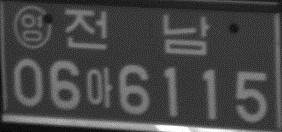0: (12, 56, 45, 108)
1: (192, 66, 228, 120), (154, 63, 189, 117)
5: (235, 70, 268, 123)
6: (47, 58, 81, 110), (118, 63, 151, 115)
아: (86, 66, 114, 108)
영: (12, 4, 53, 49)
전남_D: (63, 7, 211, 55)
